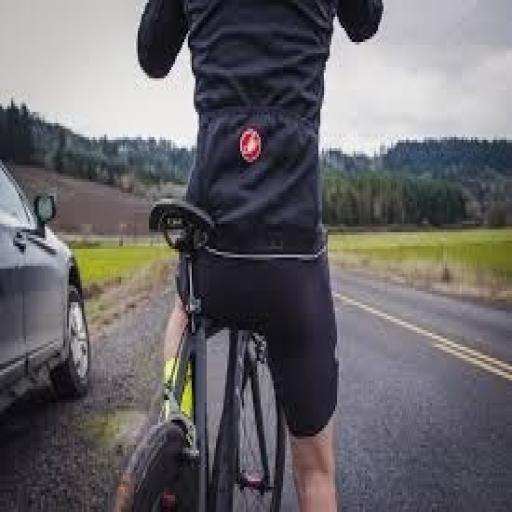cycling: (112, 0, 387, 509)
